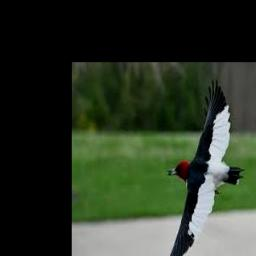Woodpecker: (152, 79, 244, 256)
